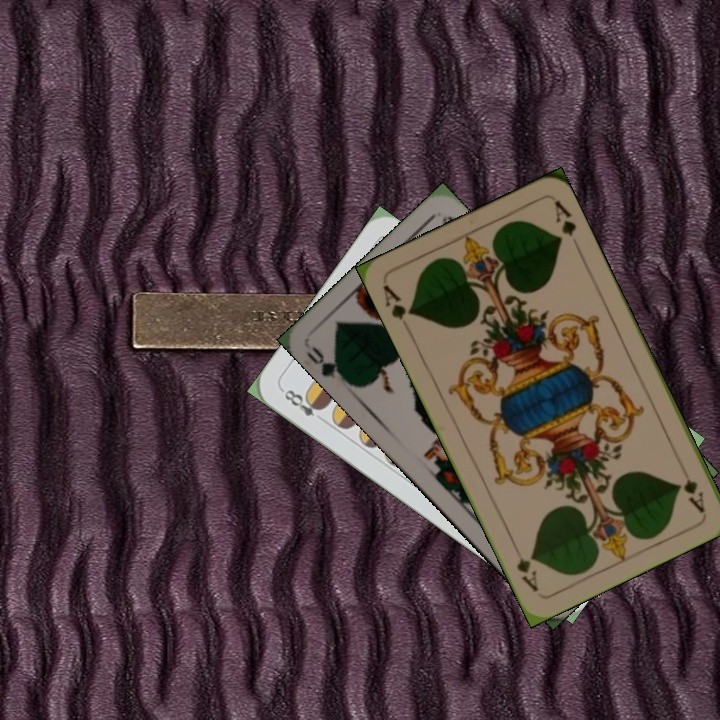E8: (278, 385, 327, 420)
GA: (379, 280, 417, 335), (679, 474, 707, 515)
GO: (302, 341, 352, 387)
